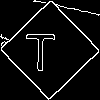T: (25, 25, 56, 71)
